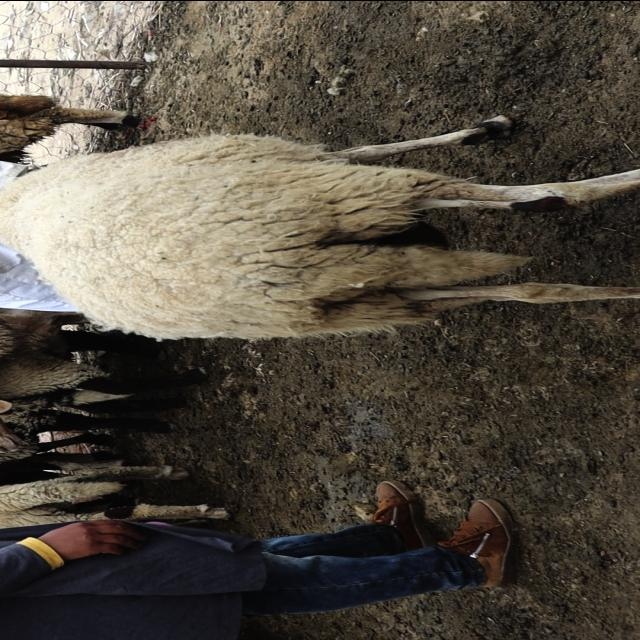Score_5: (0, 115, 639, 338)
